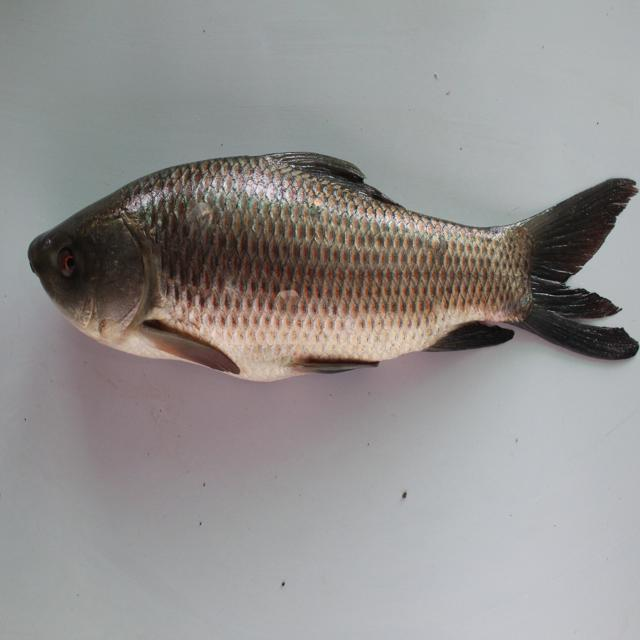Rohu: (17, 128, 632, 390)
